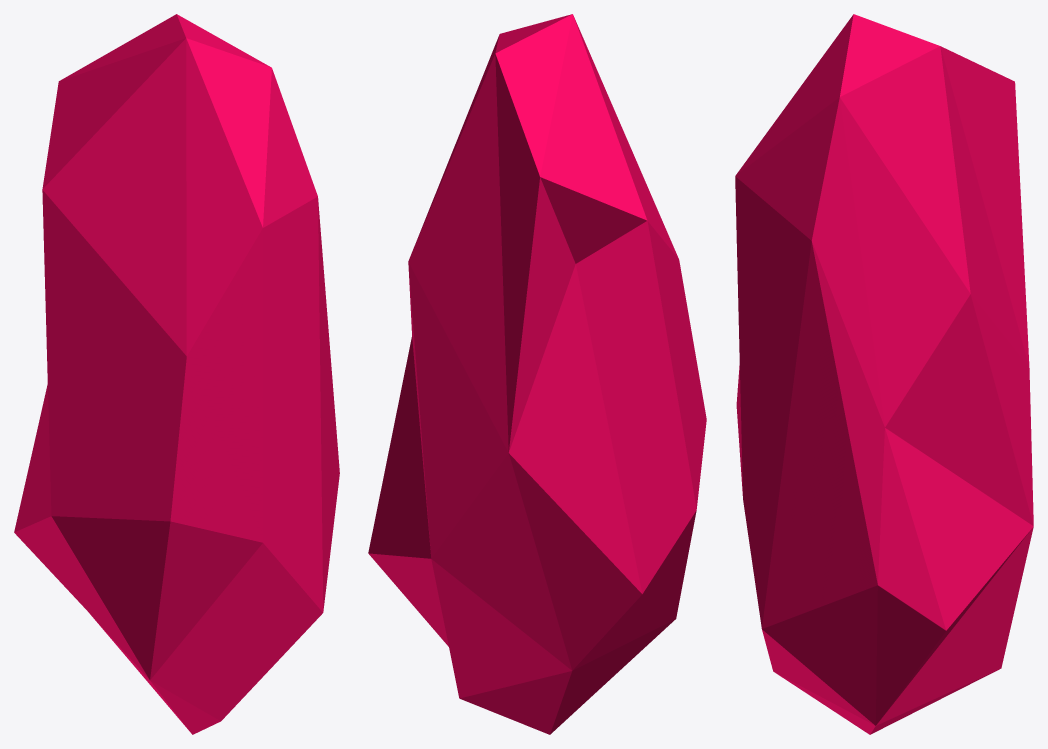
File: Crystal_012.fbx
The picture shows the model from 3 angles, left to right: view 1: azimuth 30°, elevation 25°; view 2: azimuth 150°, elevation 25°; view 3: azimuth 270°, elevation 25°; orthographic projection.
Parts seen in each view (by area): view 1: Crystal.012; view 2: Crystal.012; view 3: Crystal.012.
Boxes of the visible parts, <box> form: Crystal.012: <box>14,14,339,734</box>; Crystal.012: <box>368,14,706,734</box>; Crystal.012: <box>735,14,1033,734</box>.
Bounding box in the file's own units: 223 × 512 × 194.
